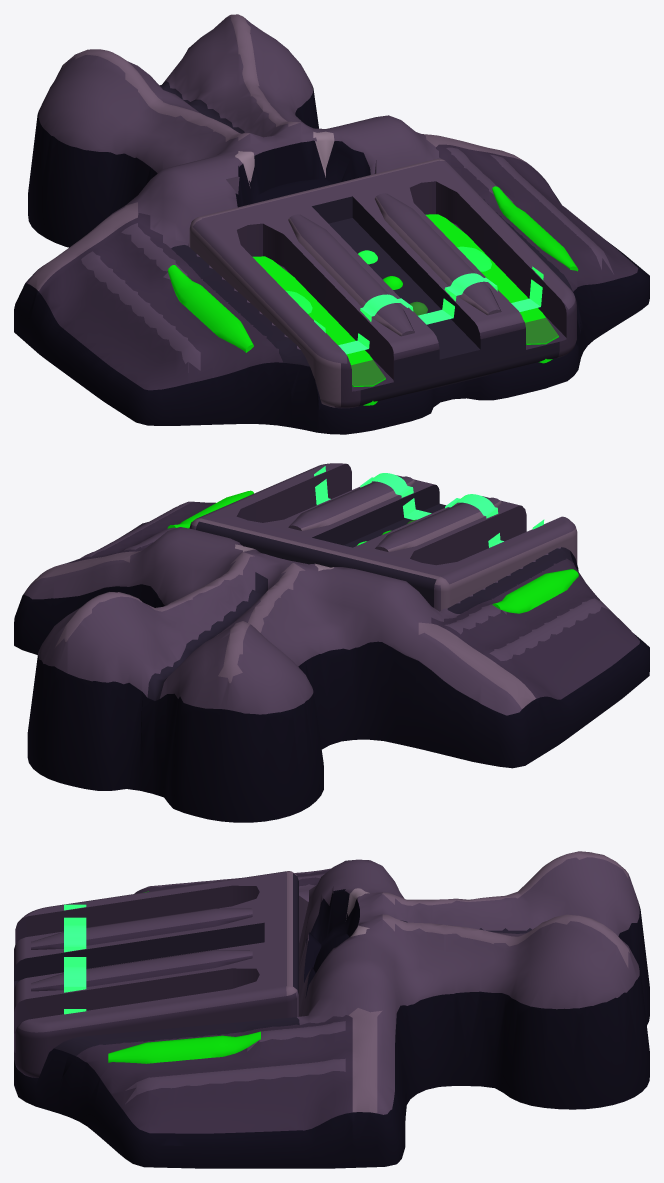
The model's file is purple_beacon_15.glb.
3 views of the same model, one above another, from view 1: azimuth 30°, elevation 25°; view 2: azimuth 150°, elevation 25°; view 3: azimuth 270°, elevation 25° (orthographic). The views are drawn at different scales.
Parts seen in each view (by area): view 1: body, block, ridge1, ridge-1, floor-1, strip1, bar, floor1, strip-1; view 2: body, block, ridge1, ridge-1, bar, strip1, strip-1; view 3: body, block, ridge-1, ridge1, strip-1, bar.
Boxes of the visible parts, <box> form: body: <box>14,14,649,434</box>; block: <box>189,158,576,408</box>; ridge1: <box>375,193,501,315</box>; ridge-1: <box>288,214,414,336</box>; floor-1: <box>252,256,385,405</box>; strip1: <box>168,265,253,352</box>; bar: <box>314,266,543,354</box>; floor1: <box>425,214,558,363</box>; strip-1: <box>492,186,578,271</box>; body: <box>14,501,649,822</box>; block: <box>189,463,577,611</box>; ridge1: <box>288,476,414,530</box>; ridge-1: <box>375,497,501,552</box>; bar: <box>314,466,544,547</box>; strip1: <box>492,569,578,613</box>; strip-1: <box>167,490,253,528</box>; body: <box>14,851,649,1168</box>; block: <box>14,871,298,1077</box>; ridge-1: <box>31,908,252,949</box>; ridge1: <box>31,949,252,991</box>; strip-1: <box>108,1031,260,1063</box>; bar: <box>64,904,86,1014</box>.
Bounding box in the file's own units: 24 × 7.25 × 26.
